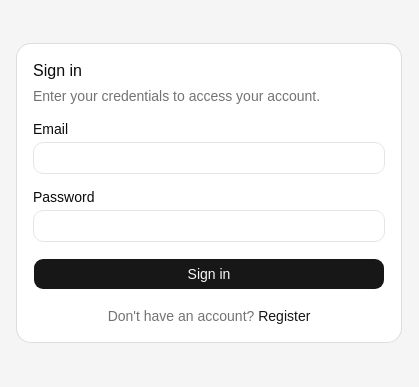
Test case: LoginPage › shows server error on failed login
Step 1. Type "bad@example.com" into the field labelled "Email" → (209, 158), box [33,142,385,174]
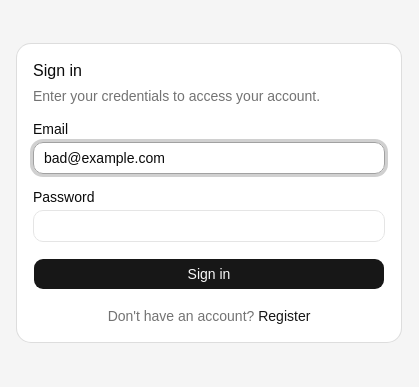
Step 2. Type "wrongpass" into the password field labelled "Password" → (209, 226), box [33,210,385,242]
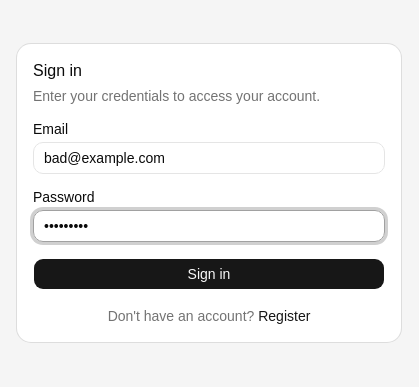
Step 3. Click the button "Sign in" → (209, 274), box [33,258,385,290]
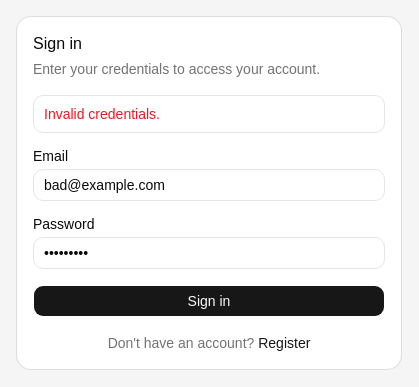
Now the text "Invalid credentials." is shown, box [44,106,160,122]
